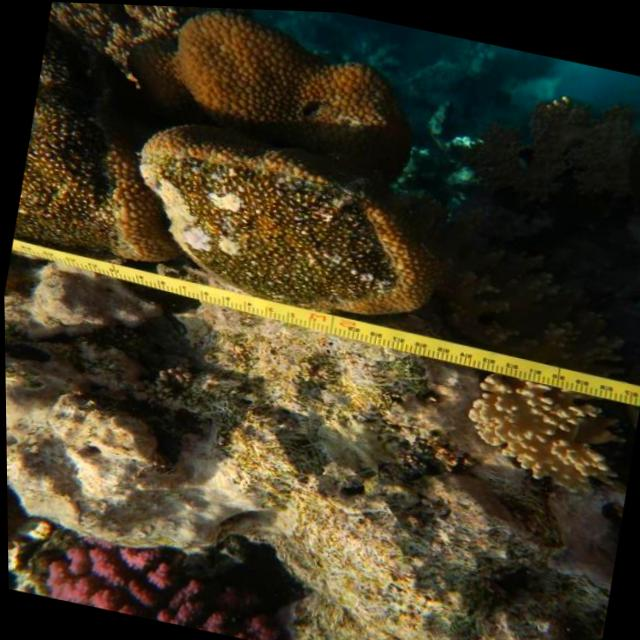Bleached Coral: (449, 355, 631, 502)
Healthy Coral: (129, 118, 446, 343), (130, 4, 412, 171), (16, 51, 176, 270), (34, 520, 293, 640)
